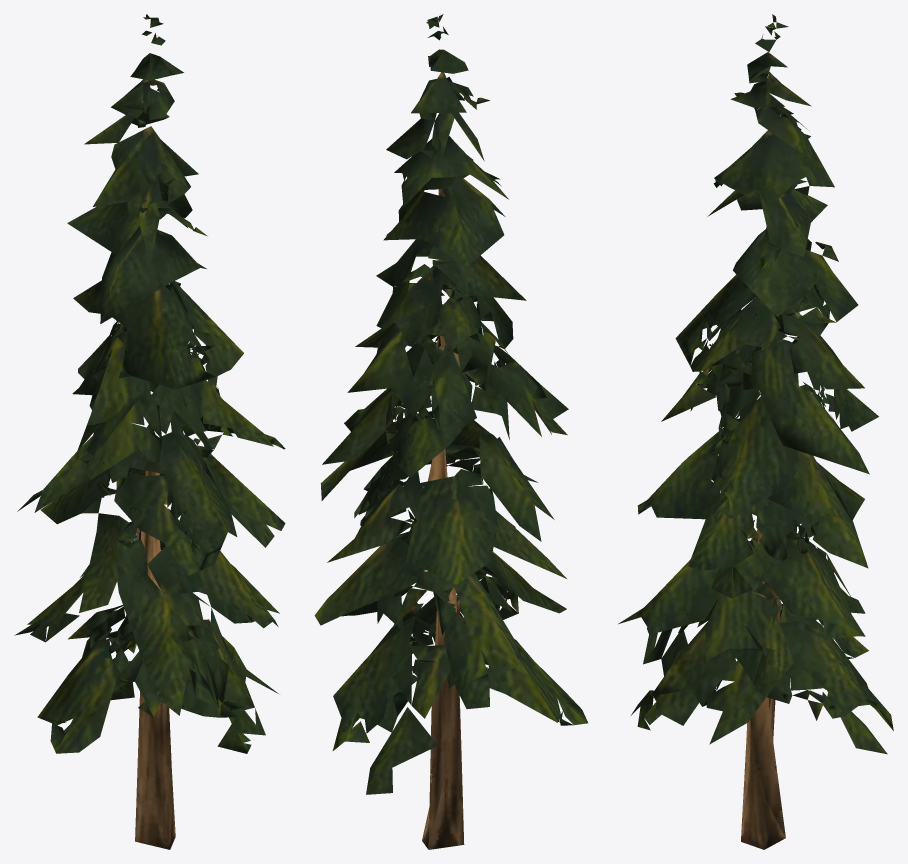
Rendered from spruce.phone.glb.
3 views of the same model, side by side, from view 1: azimuth 30°, elevation 25°; view 2: azimuth 150°, elevation 25°; view 3: azimuth 270°, elevation 25° (orthographic).
Parts seen in each view (by area): view 1: spruce.raw; view 2: spruce.raw; view 3: spruce.raw.
Boxes of the visible parts, left/top/right/bottom form: spruce.raw: left=14, top=14, right=285, bottom=849; spruce.raw: left=314, top=14, right=587, bottom=849; spruce.raw: left=618, top=14, right=893, bottom=849.
Bounding box in the file's own units: 4.78 × 16 × 4.87.
Materials: 1 (1 with a texture image).
